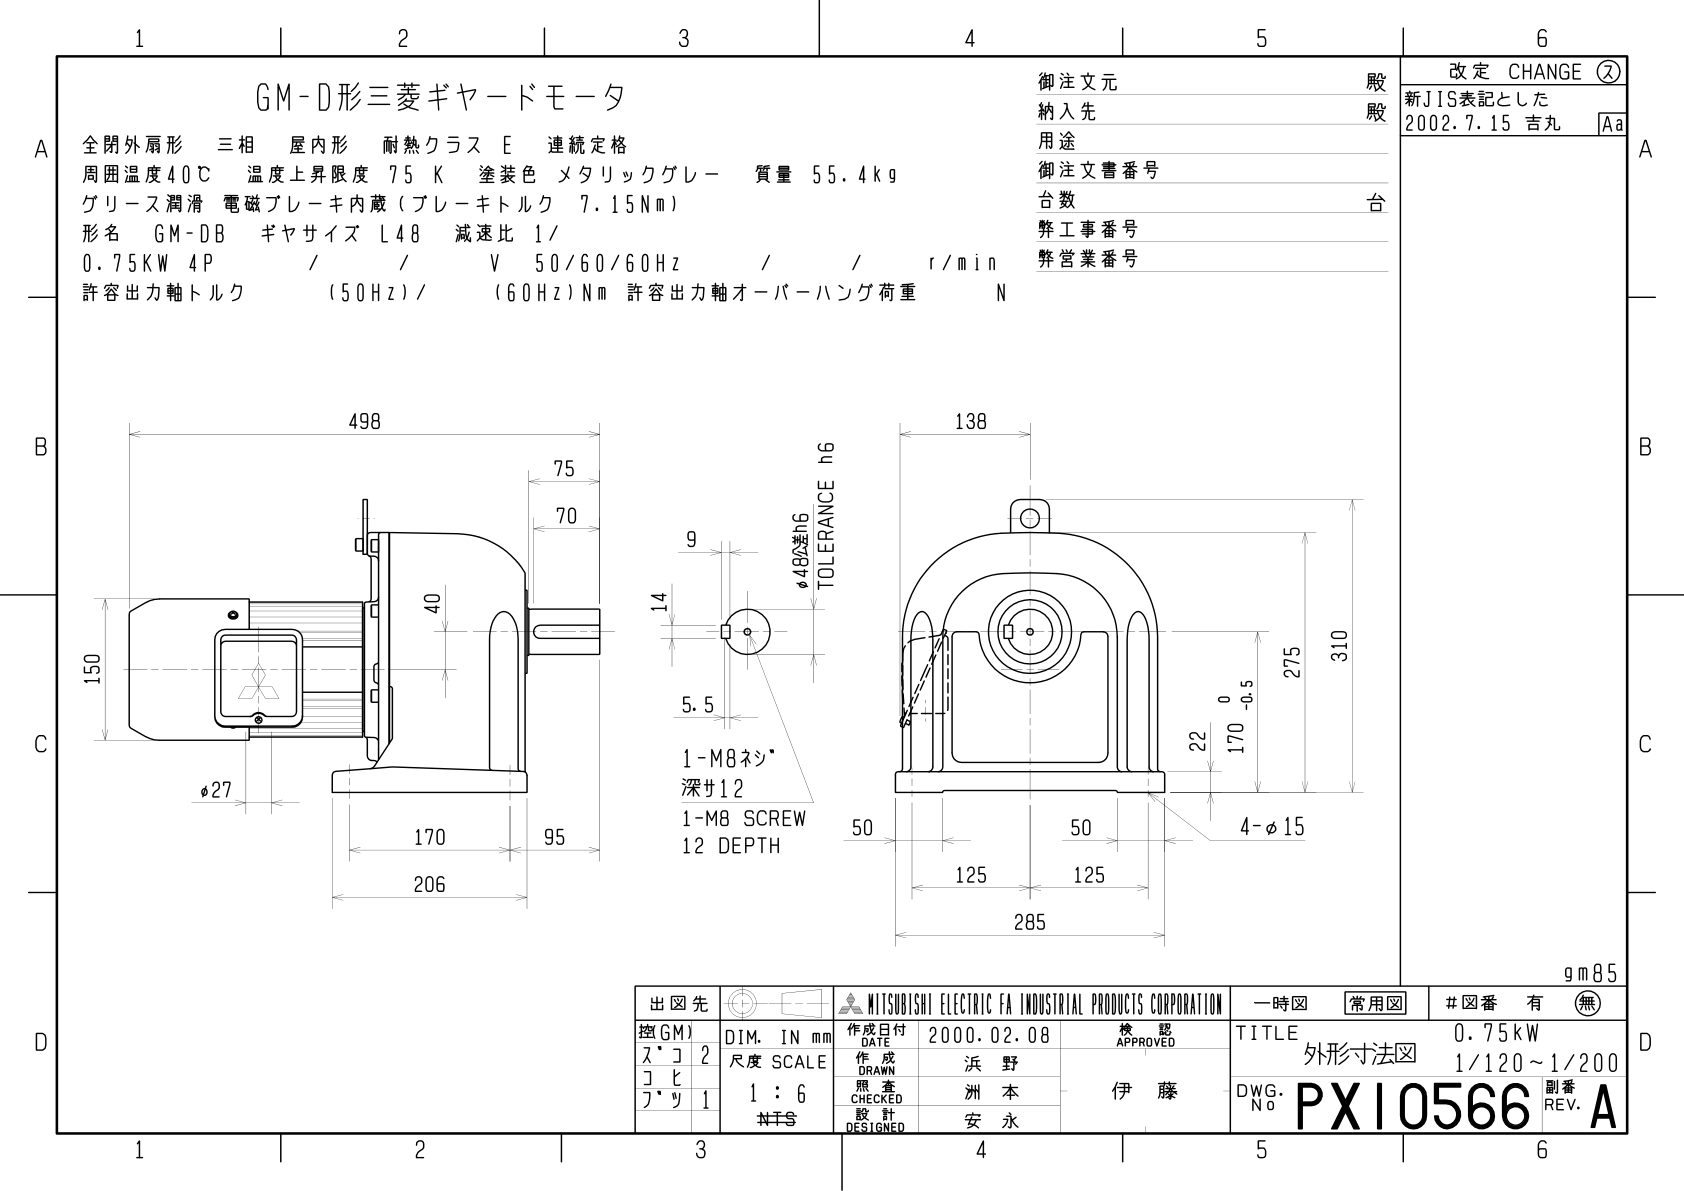GM_D_屋内＿三相_脚: (8, 9, 1684, 1191)
